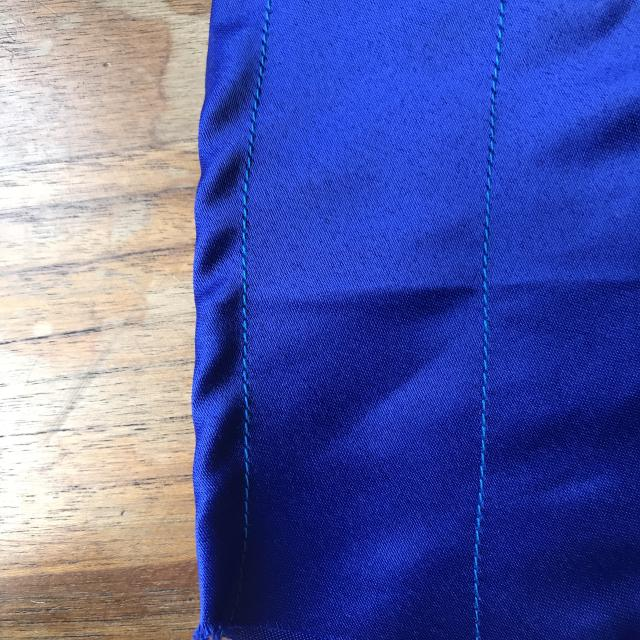good: (471, 180, 514, 372)
